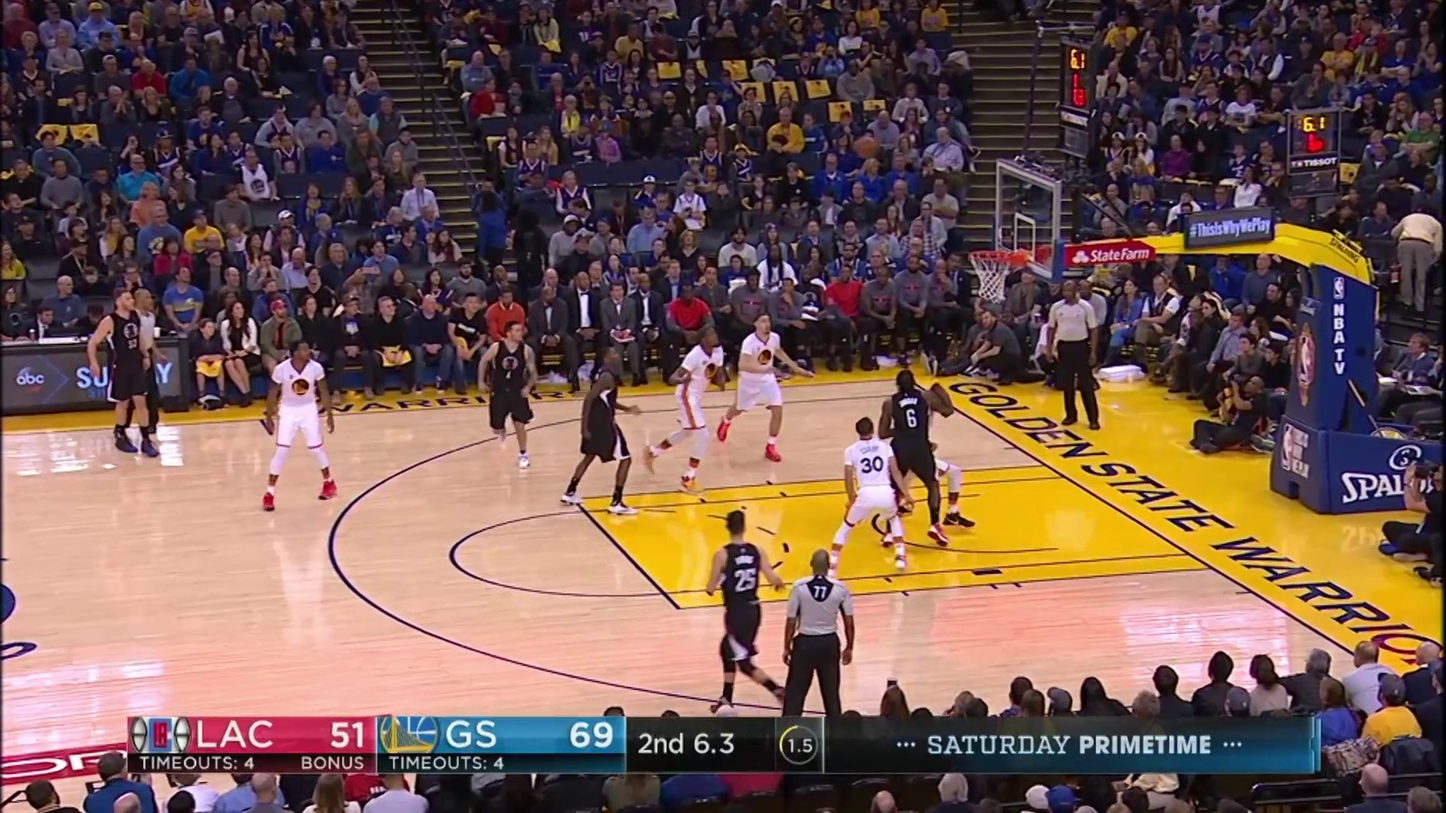basket_hoop: (952, 156, 1083, 321)
